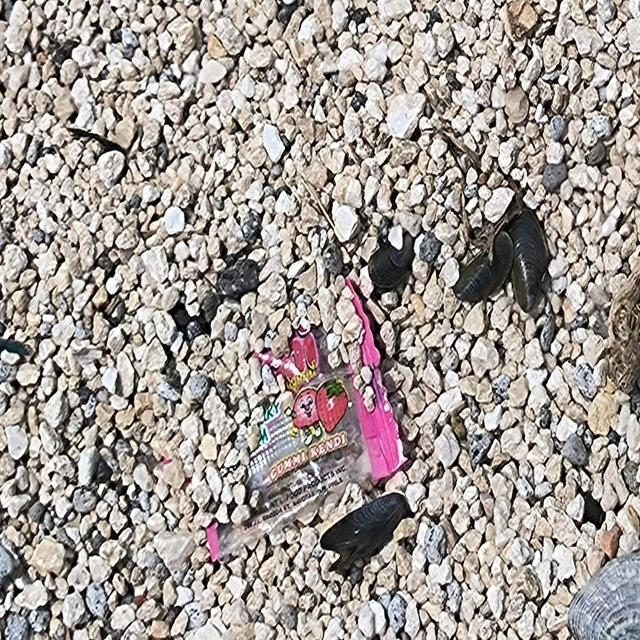plastic_waste: (206, 274, 412, 567)
